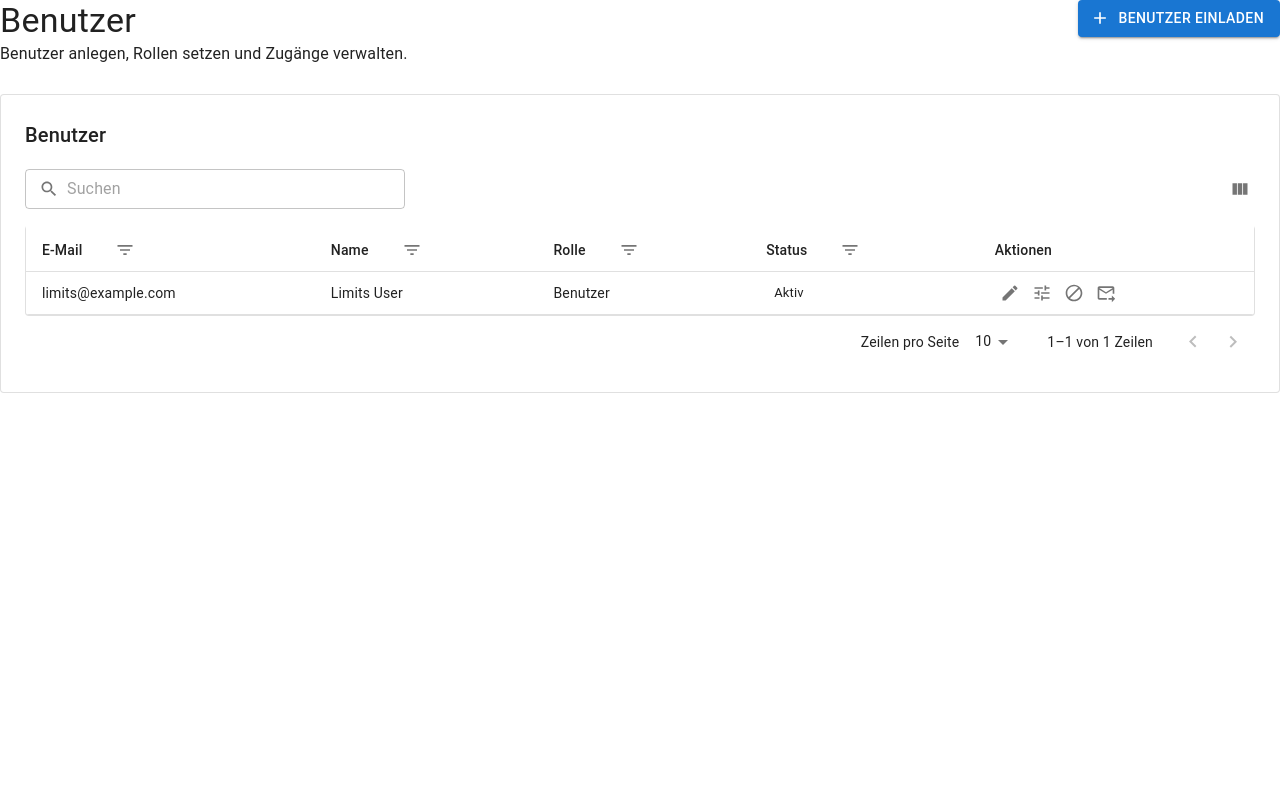
saves an edited limit via setUserLimits and closes the dialog
The image size is (1280, 800).
Click the button named "Limits".
click(1042, 293)  # box [1027, 278, 1057, 308]
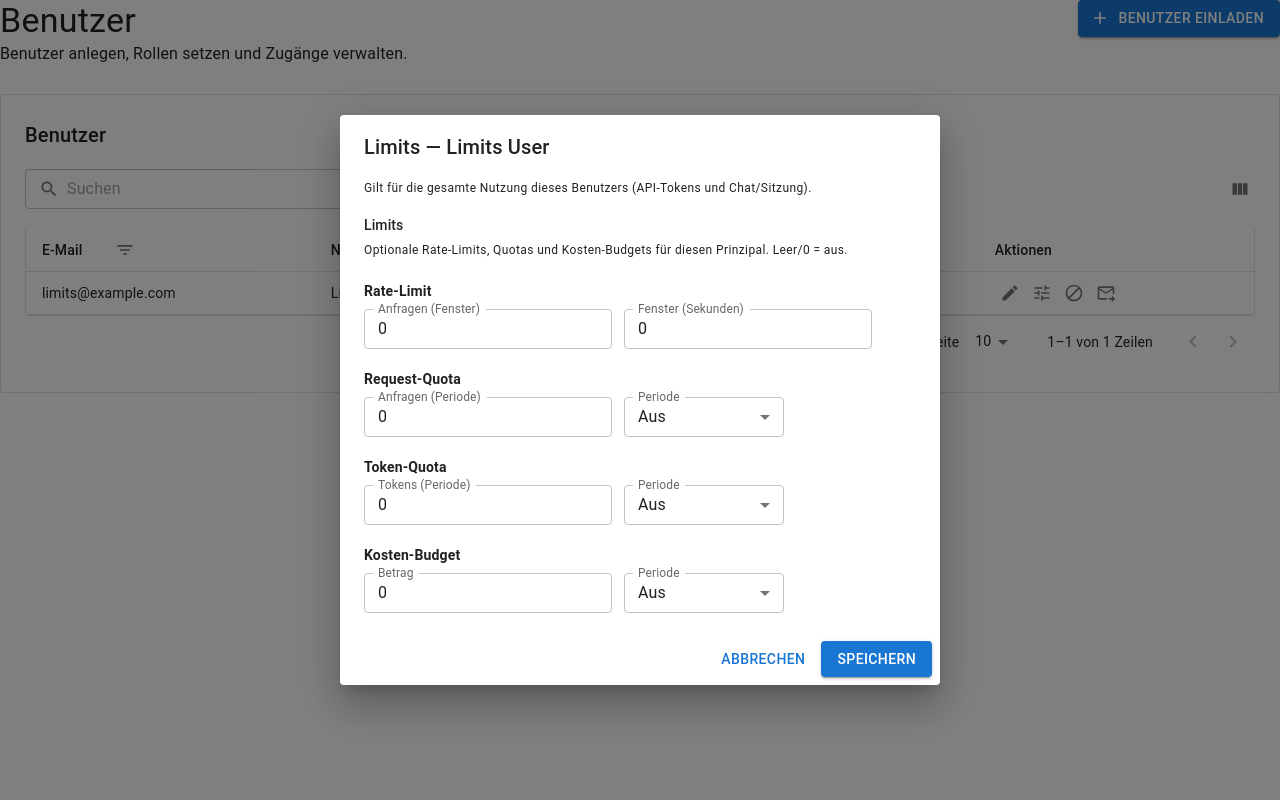
Replace the text in the number field labelled "Anfragen (Fenster)" with "20" at (488, 329), box [364, 309, 612, 349]
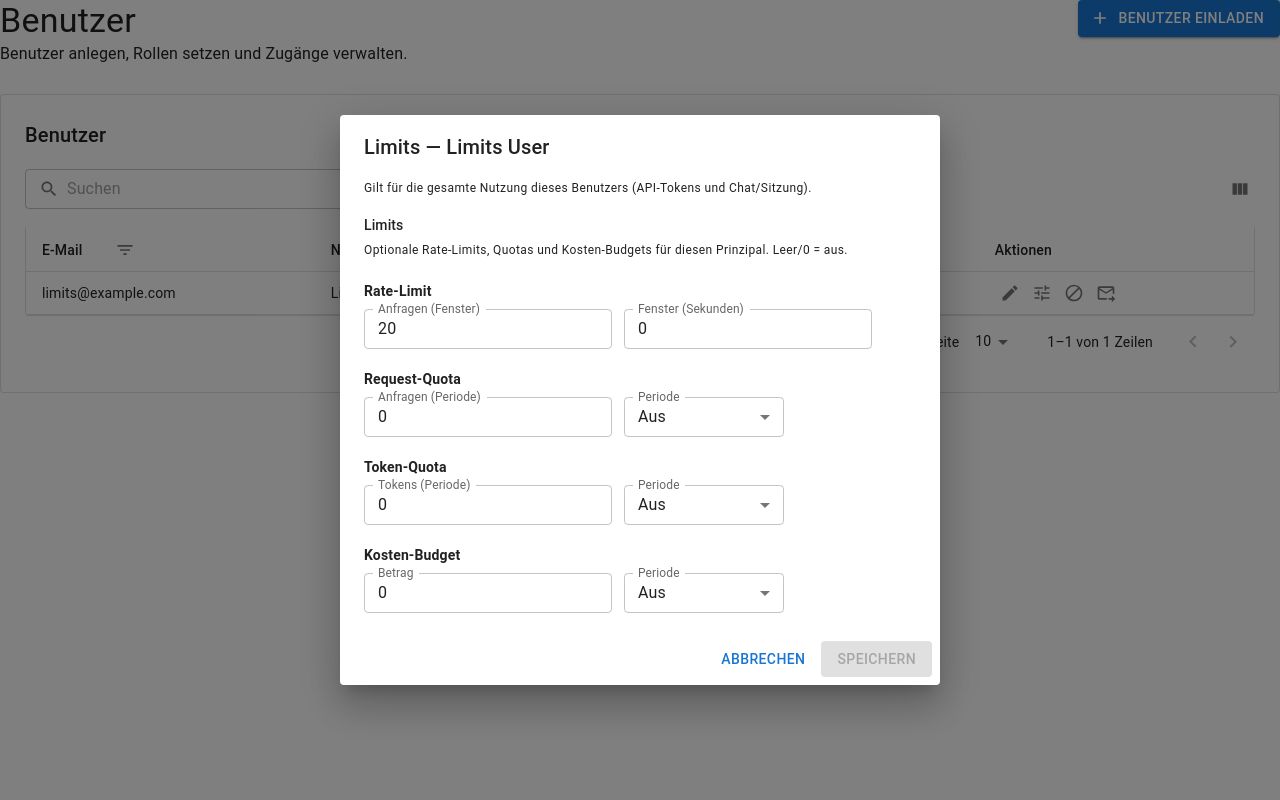
Replace the text in the number field labelled "Fenster (Sekunden)" with "60" at (748, 329), box [624, 309, 872, 349]
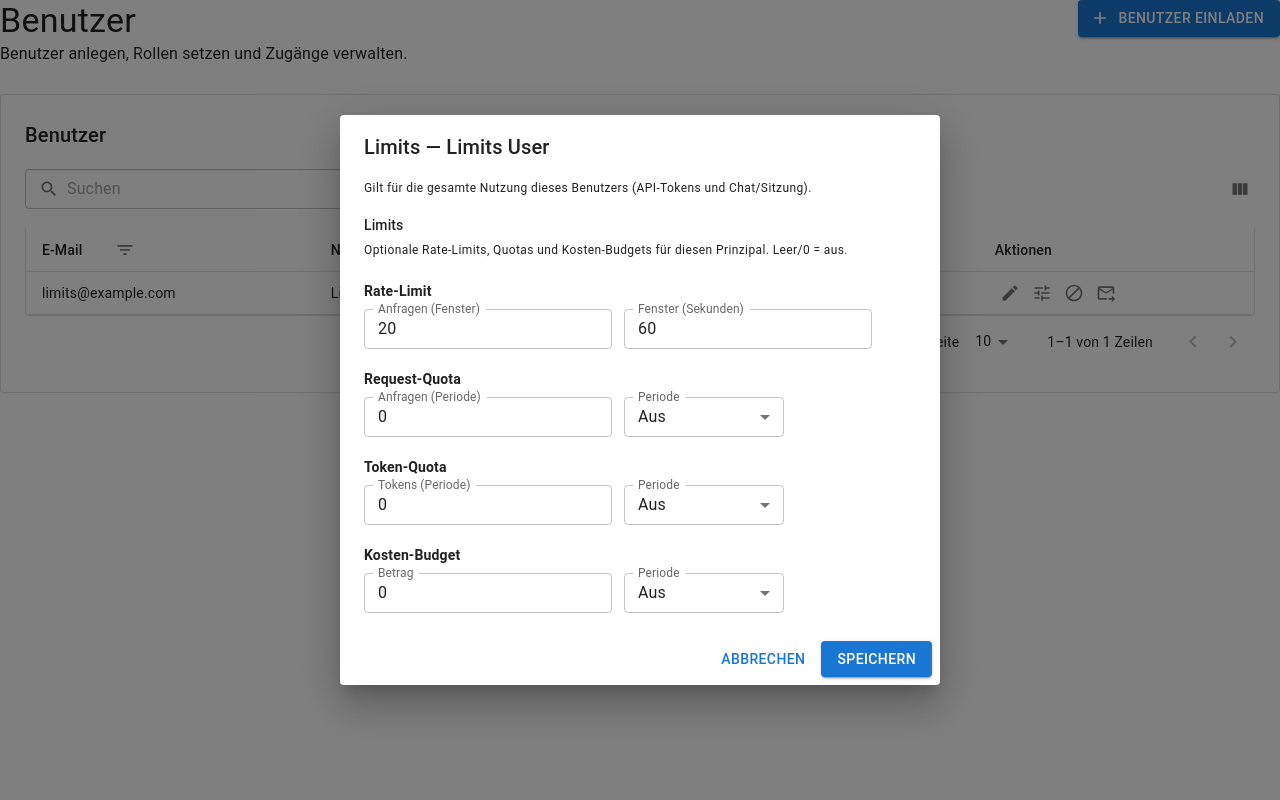
Click the button "Speichern".
click(877, 659)  # box [821, 641, 932, 677]
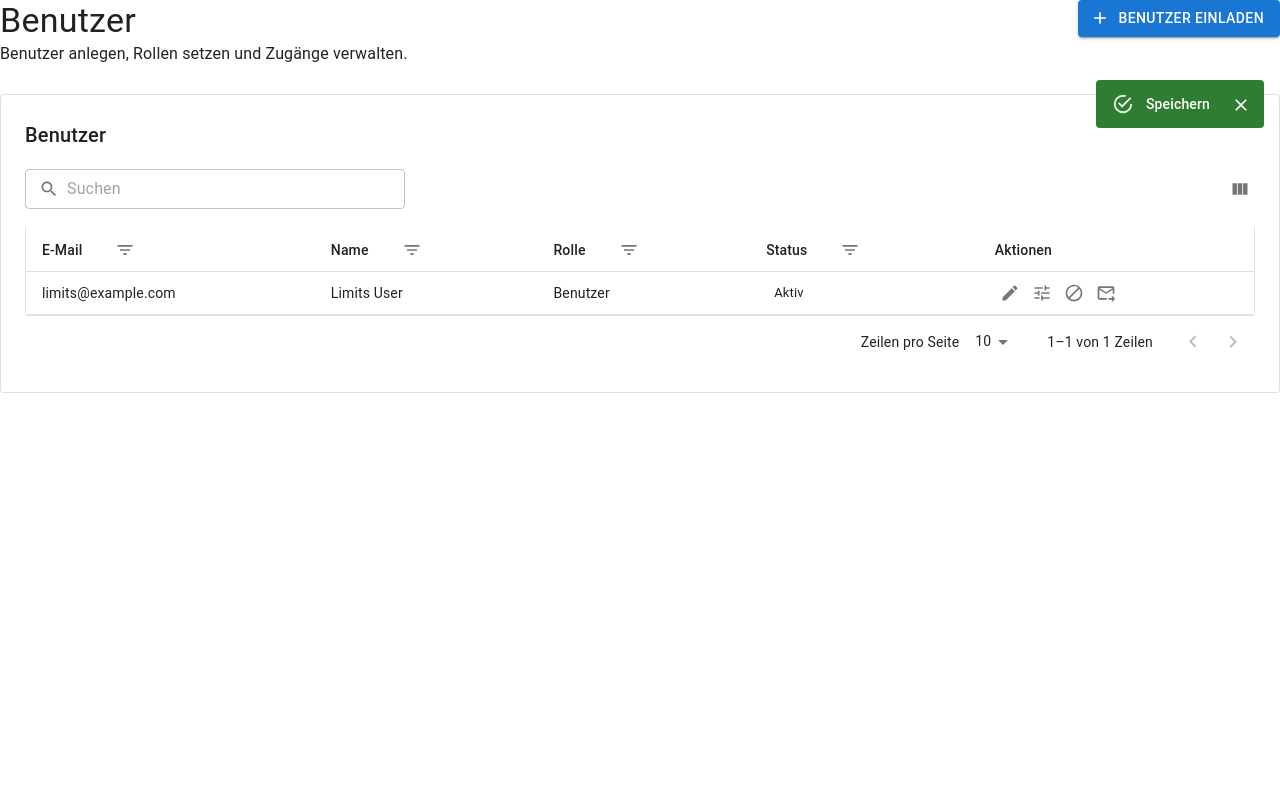
Result: the dialog is gone
